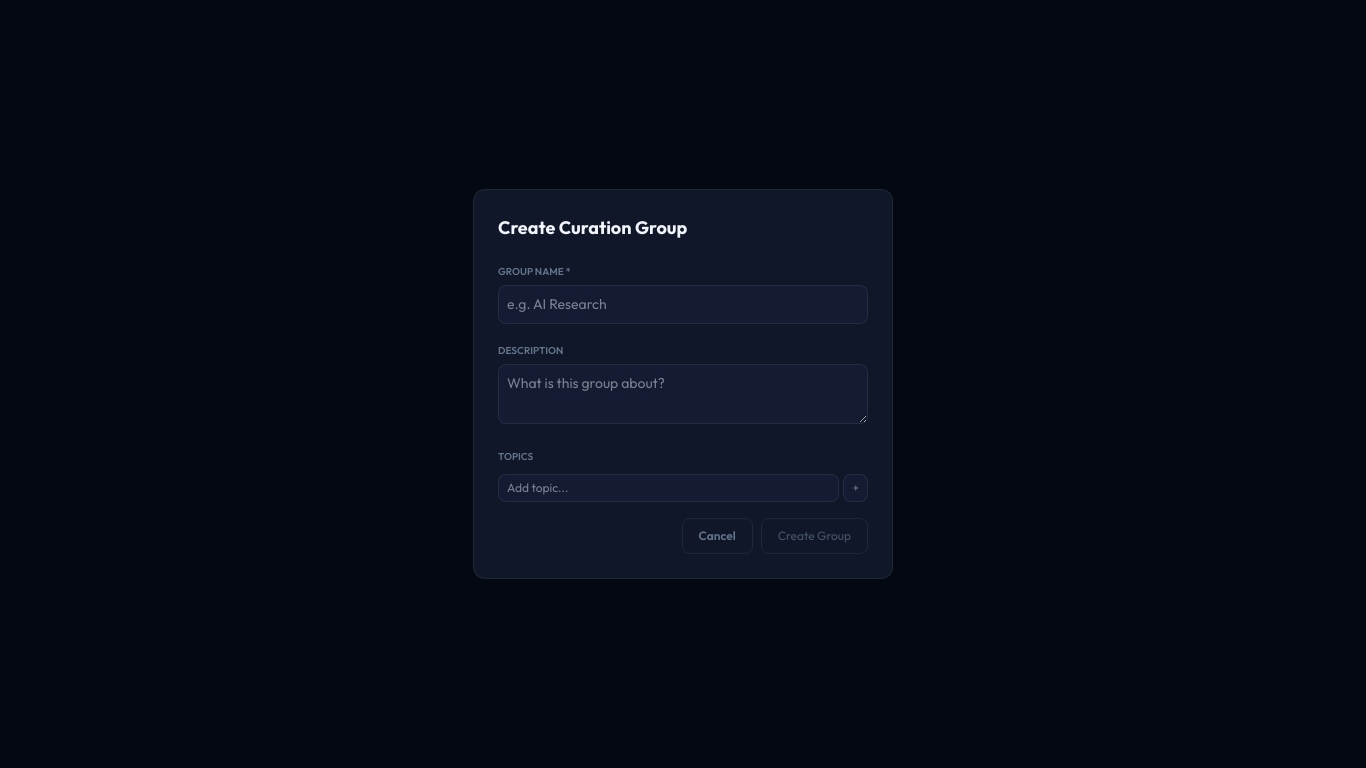
it: CreateGroupModal › adds topics via + button
The image size is (1366, 768).
Type "crypto" into the field with placeholder "Add topic...".
click(669, 488); type("crypto")  # box [498, 474, 840, 502]
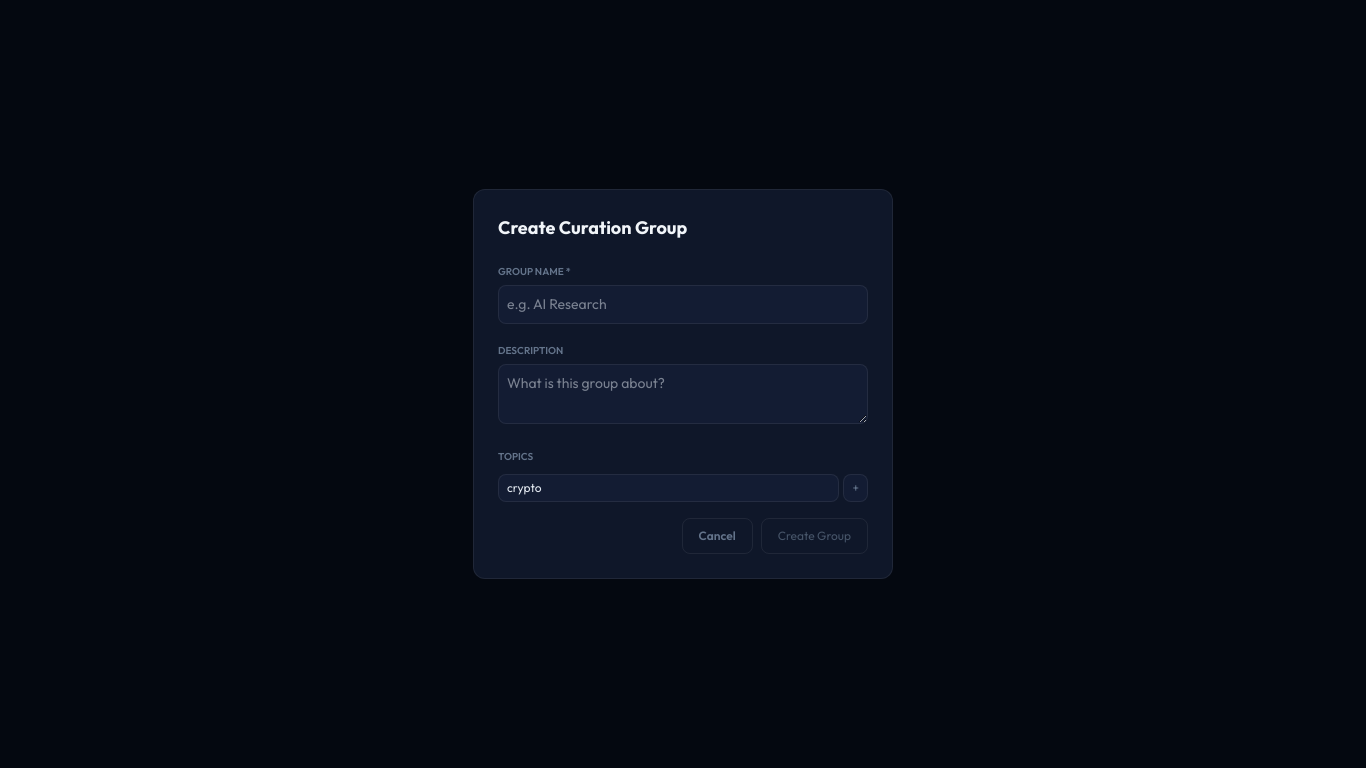
Click the button "+".
click(856, 488)  # box [844, 474, 868, 502]
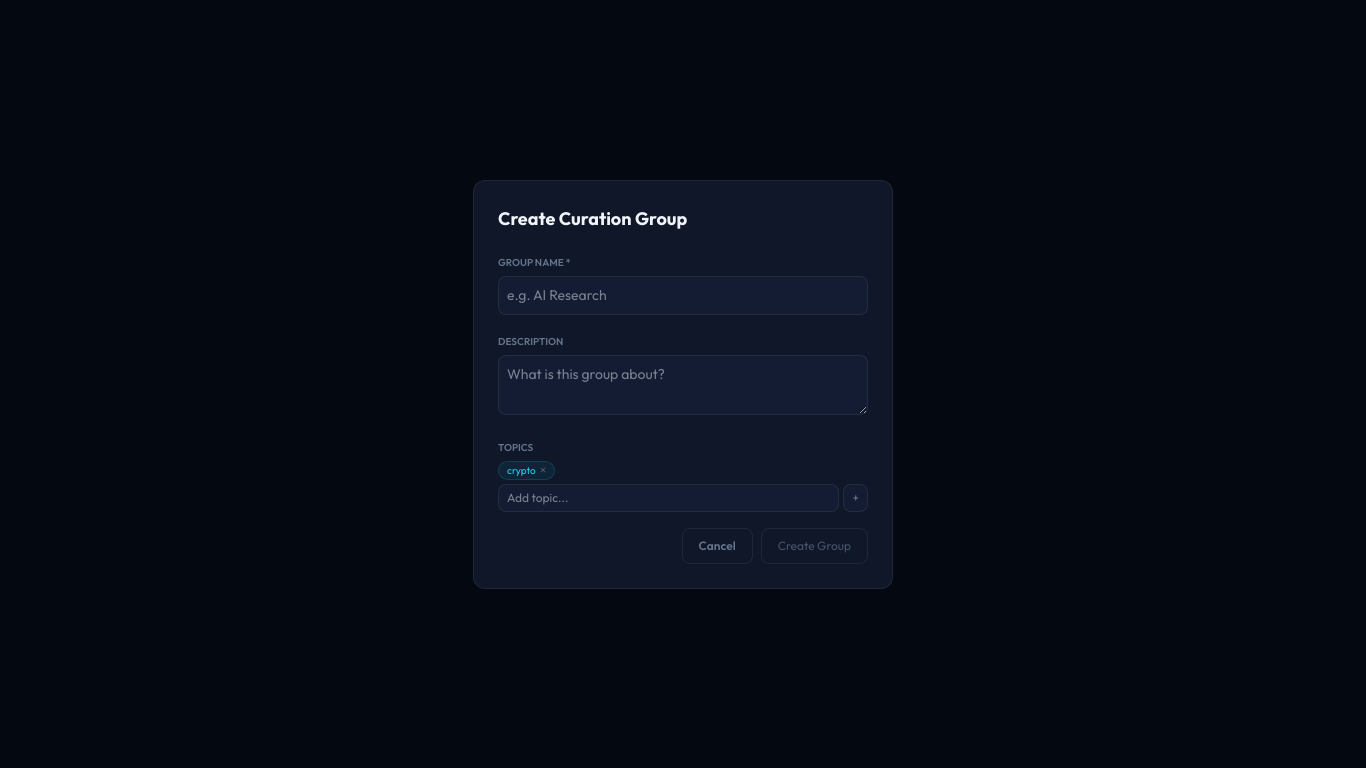
Check: the text "crypto" is shown, box [507, 464, 536, 476]
